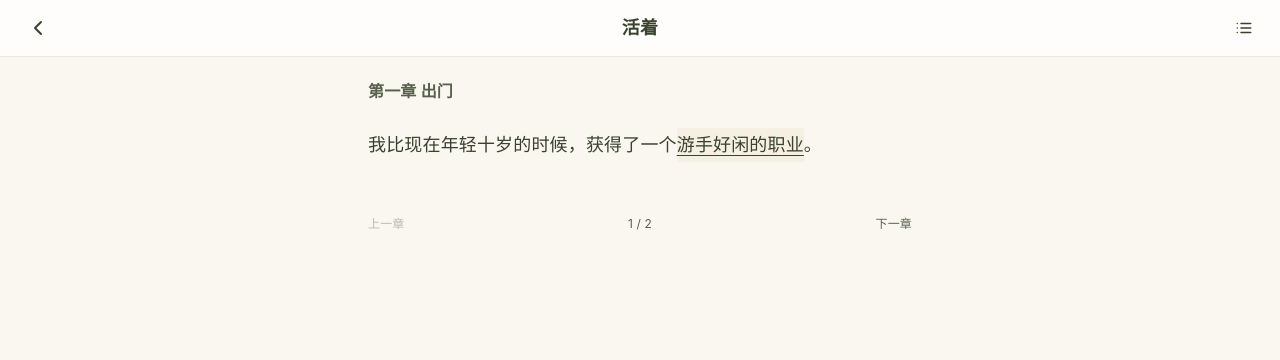
it: 读过的地方看得见 › 划过的那句话在正文里标出来，点一下看到当时写的和她说的
What coordinates should you click on to do the following:
click the button with aria-label "你在这里记过：这句写得真好"
I would click on:
 (740, 145)
Its box is [677, 128, 804, 162].
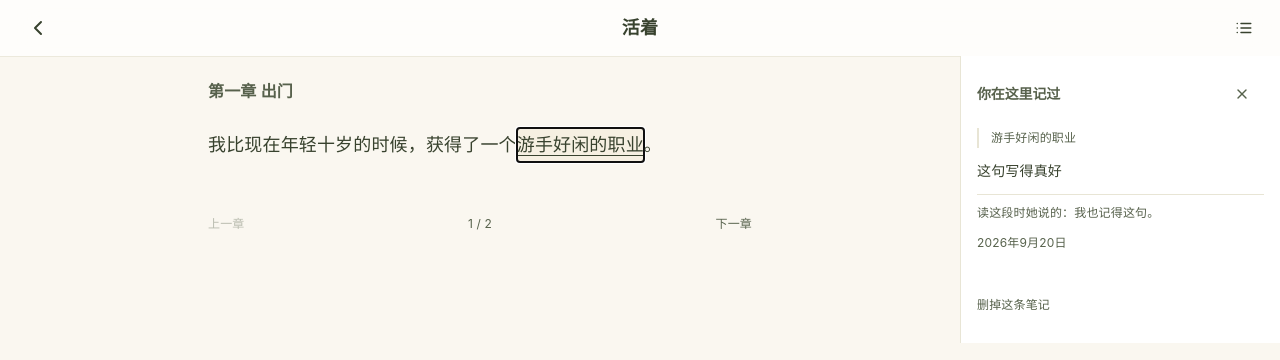
Check: the text "这句写得真好" is shown, box [977, 162, 1062, 178]
Check: the text "读这段时她说的：我也记得这句。" is shown, box [977, 194, 1264, 223]
